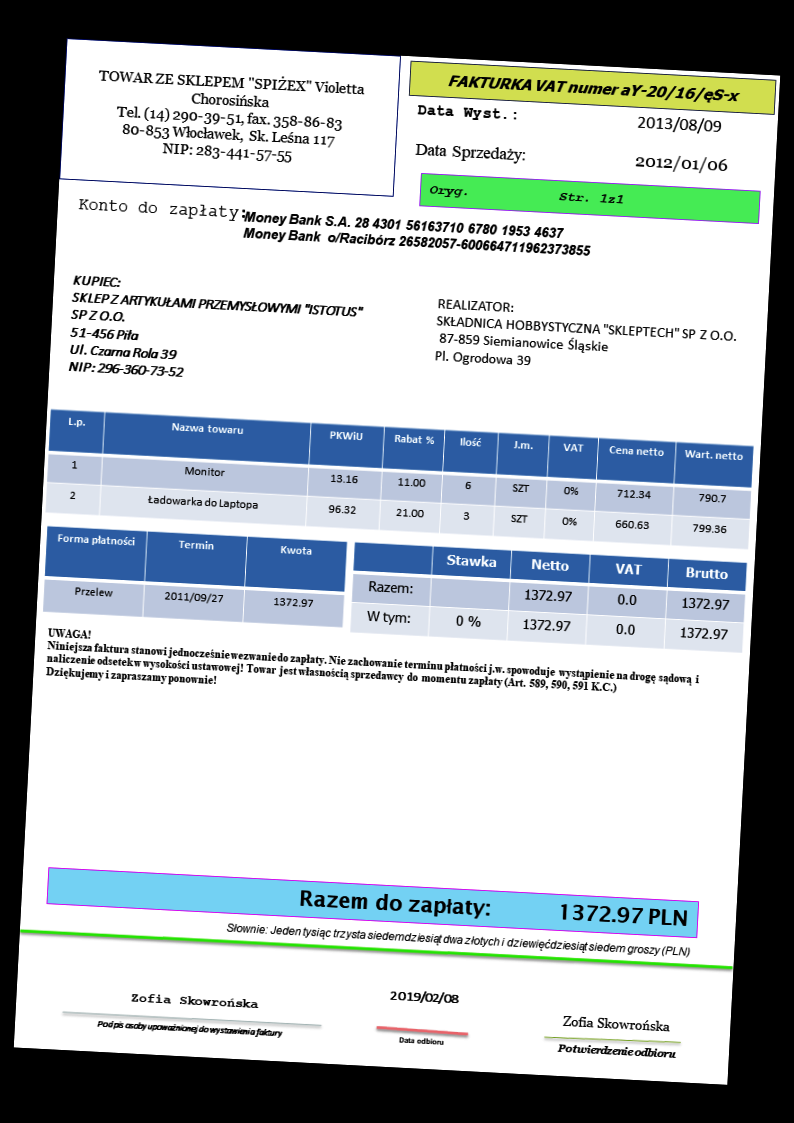Table: (44, 406, 756, 551), (348, 540, 749, 656), (41, 524, 349, 630)
TextBox: (41, 621, 706, 715), (64, 271, 368, 393), (87, 63, 370, 173), (429, 293, 741, 382), (294, 880, 690, 934), (222, 918, 692, 960), (238, 208, 595, 259), (445, 67, 747, 106), (426, 177, 628, 209), (74, 194, 247, 224), (94, 1017, 286, 1039), (410, 138, 527, 165), (128, 989, 262, 1012), (412, 98, 521, 125), (560, 1011, 677, 1035), (630, 149, 730, 176), (634, 109, 726, 138), (553, 1042, 679, 1061), (386, 985, 463, 1007), (395, 1031, 447, 1051)
